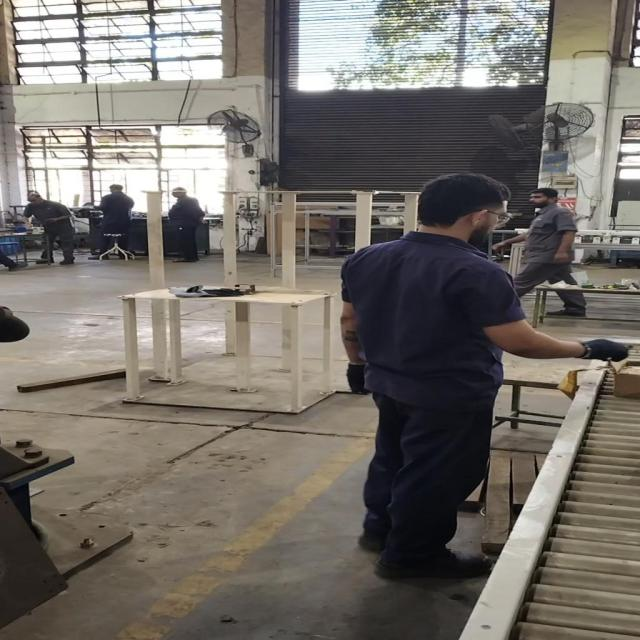Gloves-Detection: (579, 332, 634, 368), (339, 364, 369, 395)
